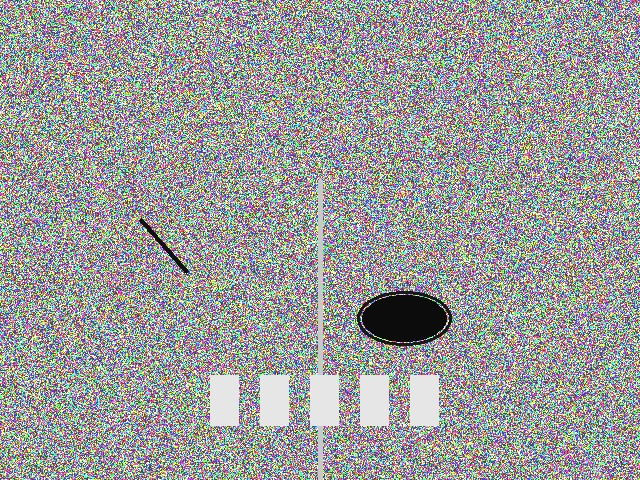crack: (135, 214, 192, 277)
pothole: (362, 295, 446, 341)
zebra_crossing: (190, 370, 450, 430)
